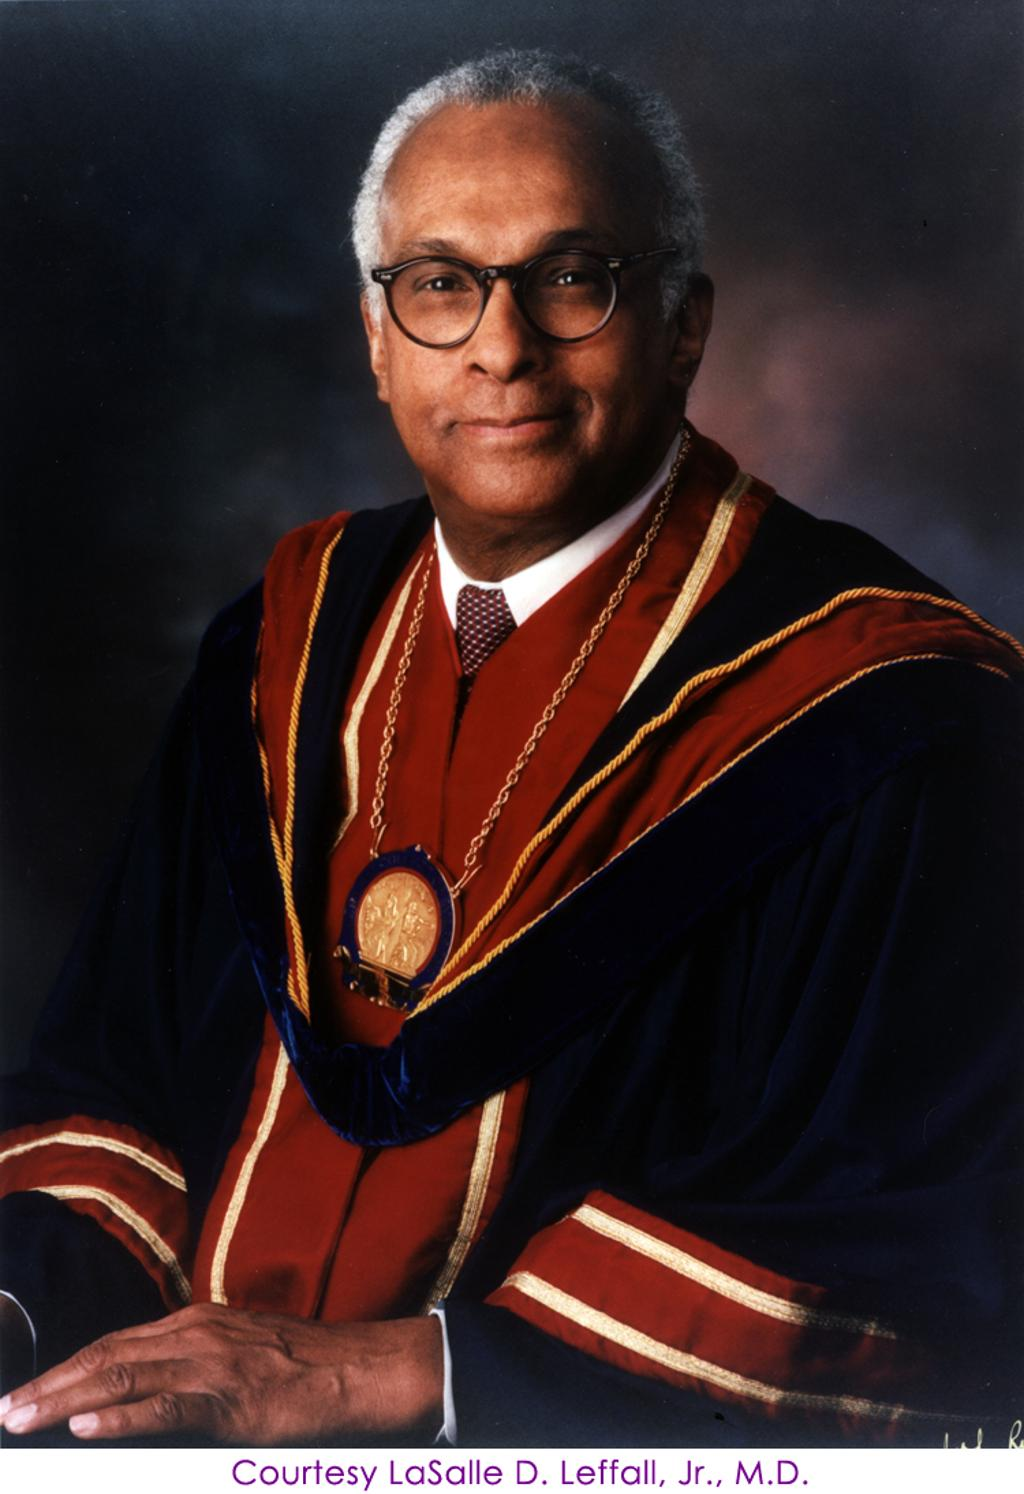face: (379, 137, 656, 510)
